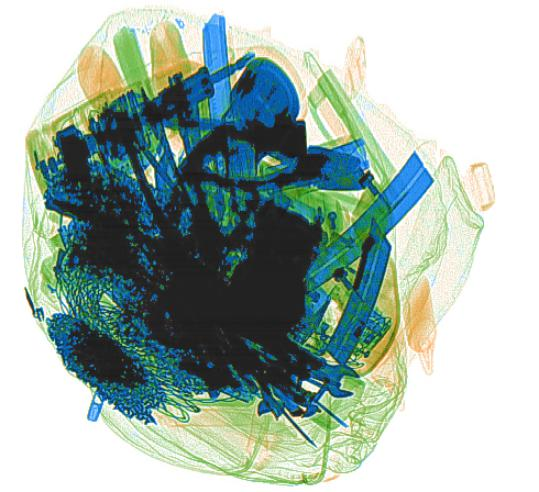knife: (200, 12, 245, 191)
